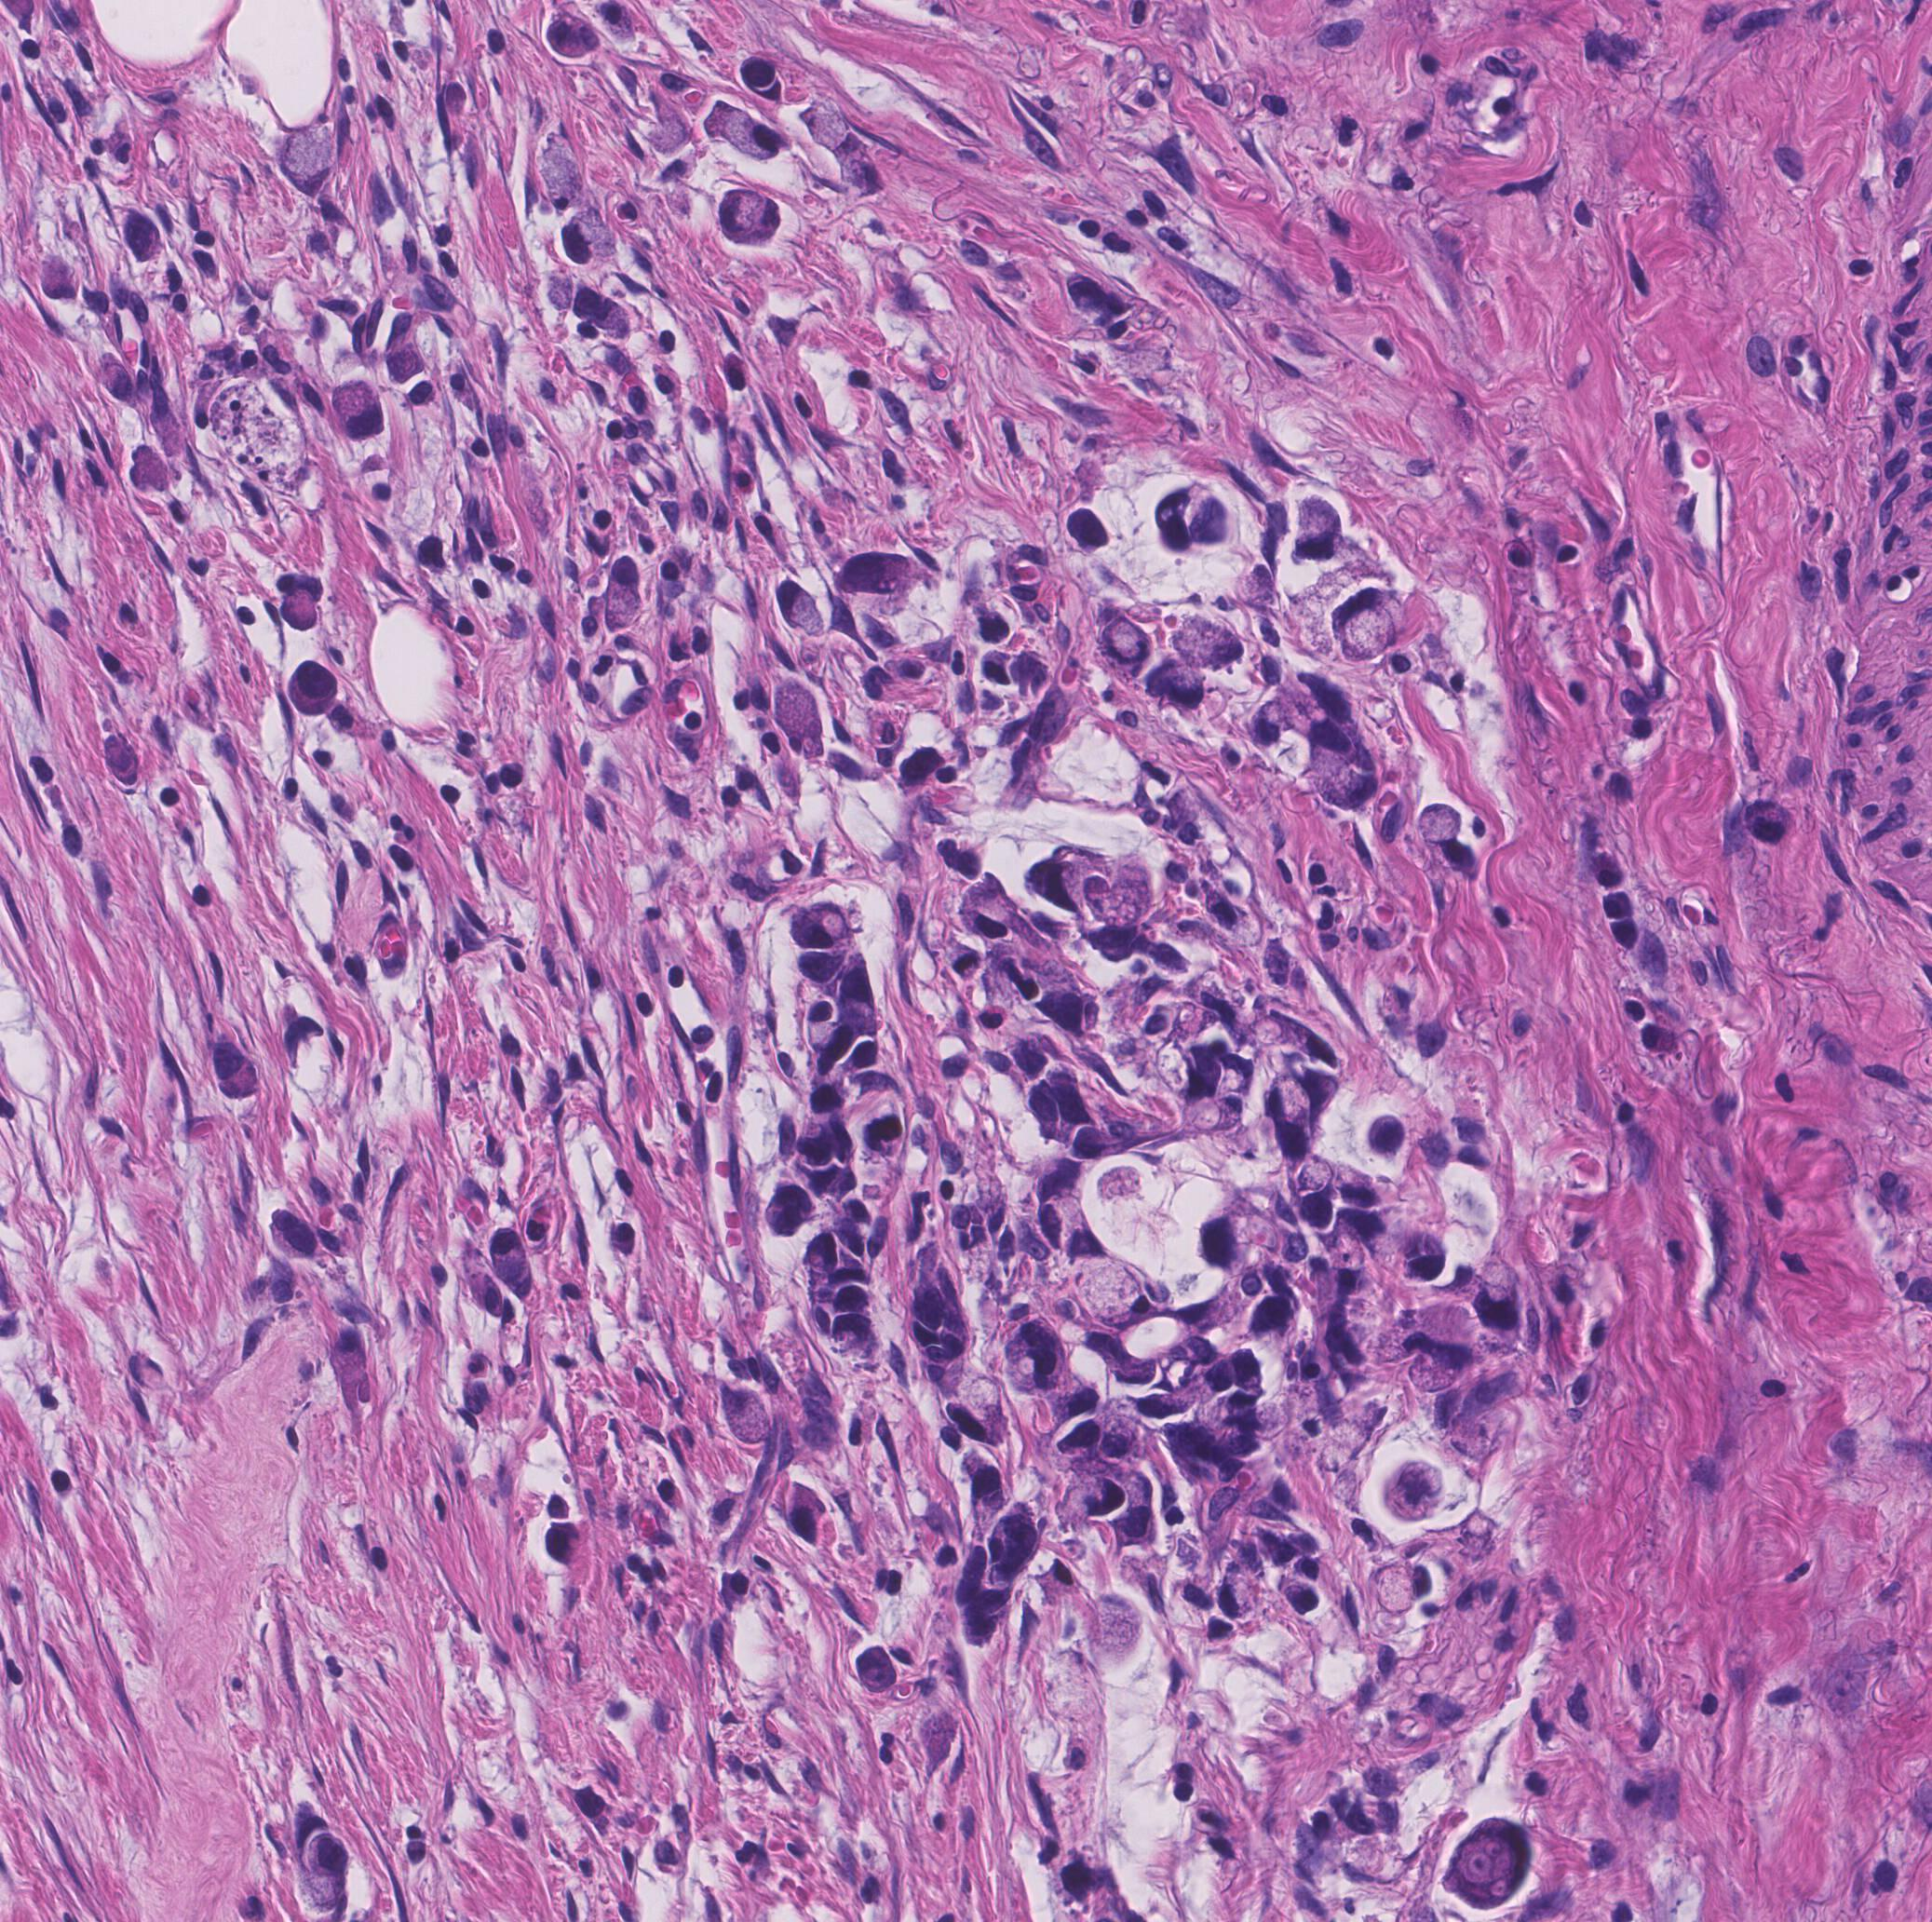ring_cell_cancer: (1138, 466, 1240, 561), (1450, 1815, 1531, 1910), (1327, 586, 1399, 660), (1281, 685, 1355, 755), (326, 1324, 382, 1415), (1262, 1010, 1346, 1070), (1075, 1262, 1158, 1322), (1198, 1200, 1263, 1276), (769, 679, 827, 757), (834, 547, 920, 597), (1029, 850, 1091, 919), (206, 1038, 266, 1109), (1033, 963, 1089, 1037), (278, 125, 338, 194), (304, 1830, 350, 1920), (1175, 616, 1248, 672), (959, 878, 1022, 940), (1049, 1852, 1114, 1911), (1082, 868, 1149, 926), (720, 1380, 774, 1450), (721, 104, 787, 162), (542, 136, 591, 211), (1404, 1341, 1480, 1390), (1742, 799, 1802, 861), (1087, 1334, 1161, 1383), (1144, 655, 1209, 709), (1311, 1302, 1365, 1368), (1476, 1262, 1522, 1339), (1024, 1148, 1089, 1200), (1314, 759, 1383, 808), (575, 283, 633, 341), (838, 954, 878, 1035), (982, 950, 1043, 1003), (1205, 894, 1267, 947), (1367, 1561, 1432, 1610), (948, 1389, 1005, 1445), (334, 382, 387, 442), (1096, 1596, 1145, 1660), (792, 1118, 857, 1165), (1172, 1288, 1240, 1332), (1374, 1309, 1429, 1364), (962, 1454, 1005, 1524), (1214, 1565, 1270, 1618), (565, 206, 616, 264), (1100, 613, 1147, 674), (1467, 1366, 1531, 1412), (1299, 498, 1343, 563), (290, 655, 334, 720), (1126, 1383, 1207, 1419), (764, 1181, 813, 1237), (790, 906, 855, 949), (605, 554, 642, 628), (486, 1223, 530, 1285), (1390, 1464, 1439, 1519), (781, 576, 822, 641), (841, 134, 883, 194), (1334, 1165, 1394, 1207), (280, 574, 322, 634), (1295, 1163, 1334, 1229), (100, 730, 146, 783), (274, 1209, 317, 1265), (790, 1480, 825, 1547), (1265, 1077, 1314, 1125), (1248, 1295, 1302, 1338), (829, 1317, 876, 1364), (1369, 1112, 1413, 1163), (123, 209, 165, 262), (1056, 1072, 1094, 1128), (329, 697, 375, 745), (542, 1522, 589, 1568), (1416, 803, 1466, 847), (1065, 1480, 1126, 1515), (911, 1271, 947, 1331), (713, 190, 758, 236), (385, 333, 429, 380), (1189, 1093, 1246, 1130), (1160, 790, 1211, 831), (866, 1100, 901, 1158), (644, 109, 692, 151), (1404, 1232, 1443, 1283), (857, 1646, 896, 1697), (37, 255, 81, 299), (1043, 1207, 1087, 1251), (801, 954, 846, 996), (806, 99, 845, 148), (1225, 1410, 1292, 1438), (1116, 1507, 1158, 1551), (1318, 1265, 1372, 1299), (1029, 1084, 1063, 1139), (845, 1403, 882, 1452), (1045, 1389, 1105, 1419), (130, 447, 171, 491), (1056, 1424, 1101, 1463), (1103, 1419, 1145, 1459), (151, 403, 185, 454), (1008, 1320, 1059, 1353), (1249, 702, 1288, 746), (1436, 838, 1480, 877), (100, 359, 137, 405), (804, 1000, 839, 1047), (943, 942, 982, 984), (470, 1269, 505, 1315), (1339, 1209, 1383, 1244), (1014, 1042, 1049, 1081), (984, 646, 1014, 688), (834, 1287, 878, 1315), (1123, 1470, 1154, 1508), (1286, 1577, 1320, 1612), (751, 201, 781, 239), (1232, 1348, 1262, 1387), (808, 1232, 836, 1273), (1205, 1362, 1239, 1392), (1223, 1056, 1248, 1093)
